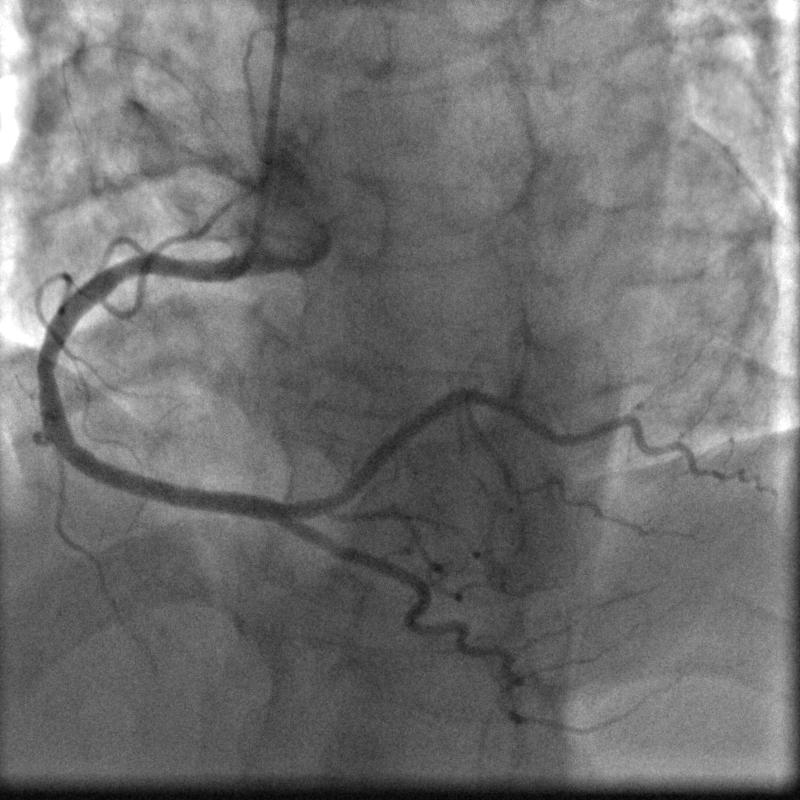Stenosis: (28, 335, 62, 398)
